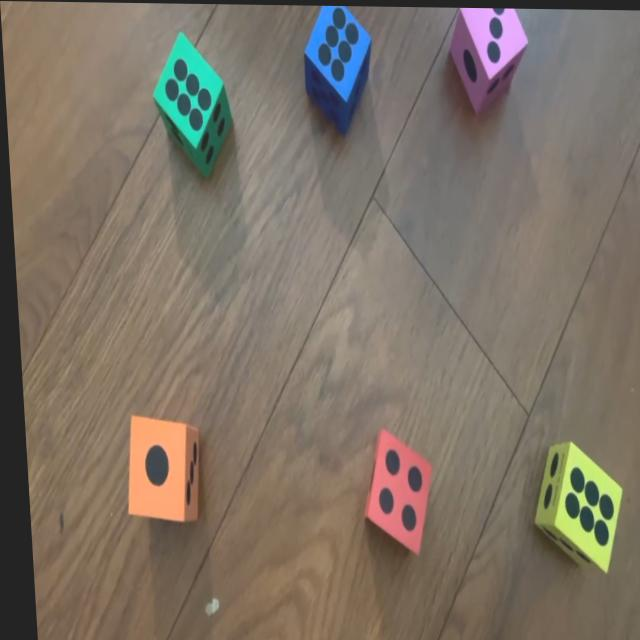blue_block: (302, 4, 376, 129)
red_block: (352, 430, 430, 550)
